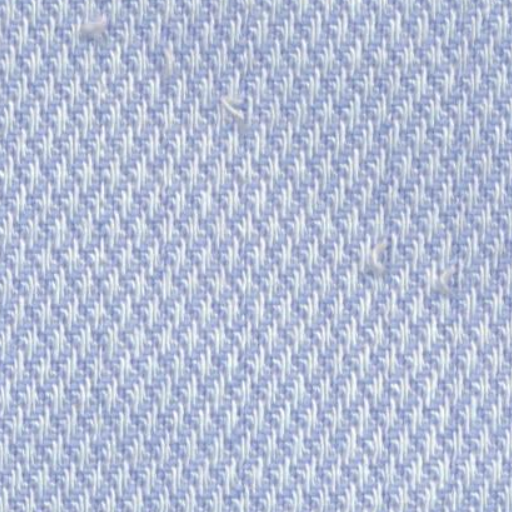DuanSha: (353, 226, 474, 310), (208, 82, 264, 136), (65, 6, 124, 55)
